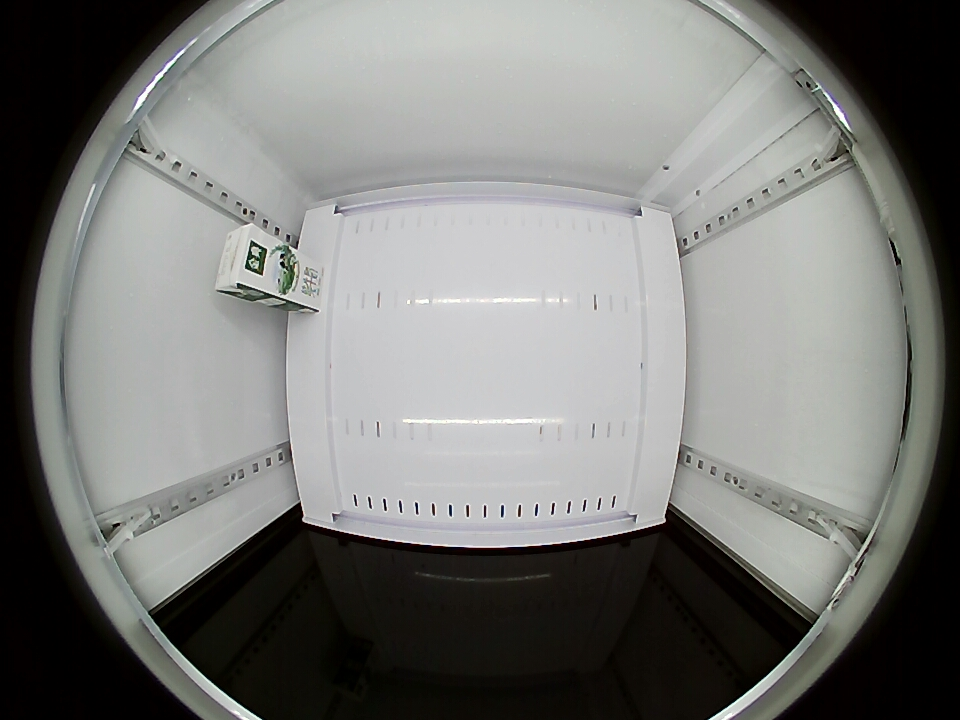jindian: (214, 224, 277, 301)
